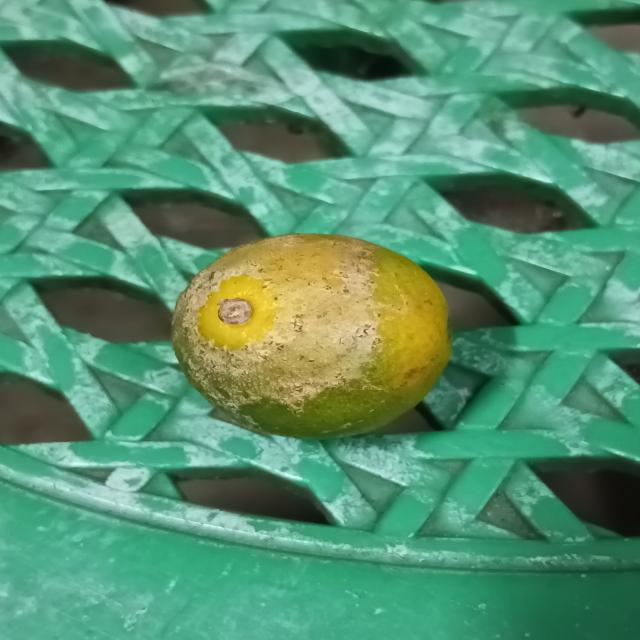thrips: (165, 229, 456, 440)
